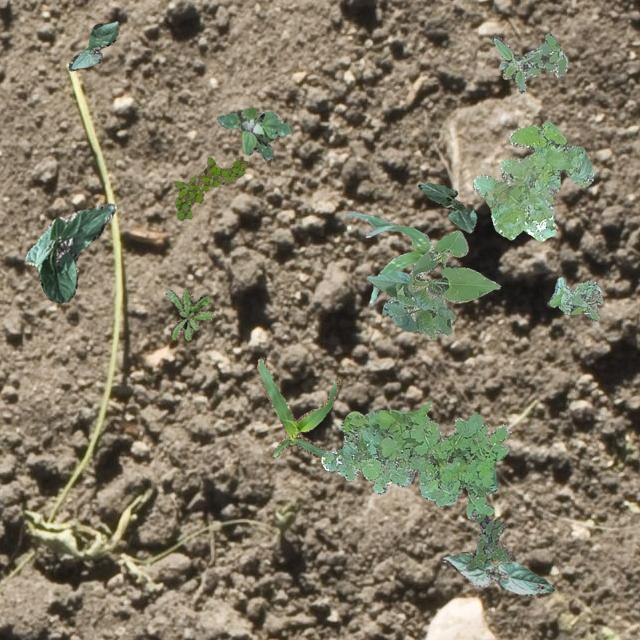crop: (366, 230, 500, 338), (344, 210, 436, 314), (24, 202, 116, 302), (255, 358, 338, 457), (442, 552, 554, 594), (418, 182, 474, 232), (68, 20, 119, 70)
weed: (320, 400, 510, 518), (472, 120, 592, 240), (172, 156, 246, 220), (491, 32, 566, 92), (216, 106, 290, 160), (464, 512, 512, 570), (164, 288, 212, 340), (548, 276, 602, 320)
